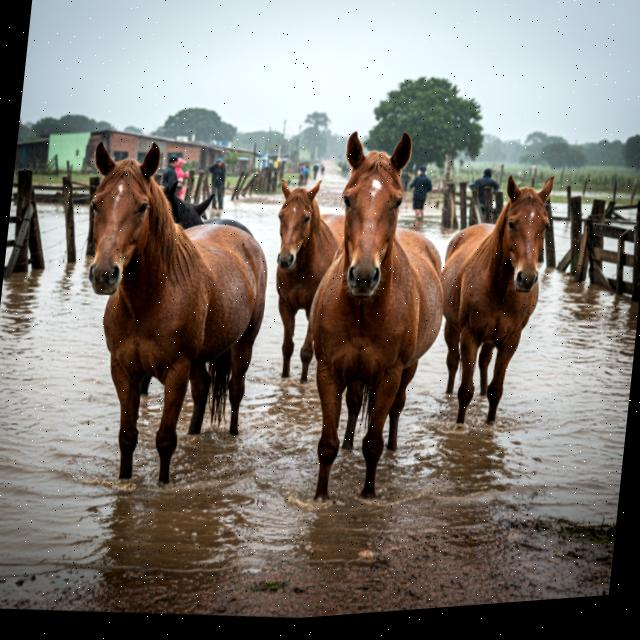civilian: (406, 161, 437, 228), (468, 164, 502, 222), (158, 151, 186, 199), (170, 150, 192, 199), (298, 163, 308, 186), (301, 164, 310, 187), (312, 161, 320, 181), (318, 160, 326, 179)
horse: (46, 118, 286, 506), (285, 118, 469, 513), (410, 160, 570, 439), (126, 162, 280, 415), (250, 167, 356, 381)
